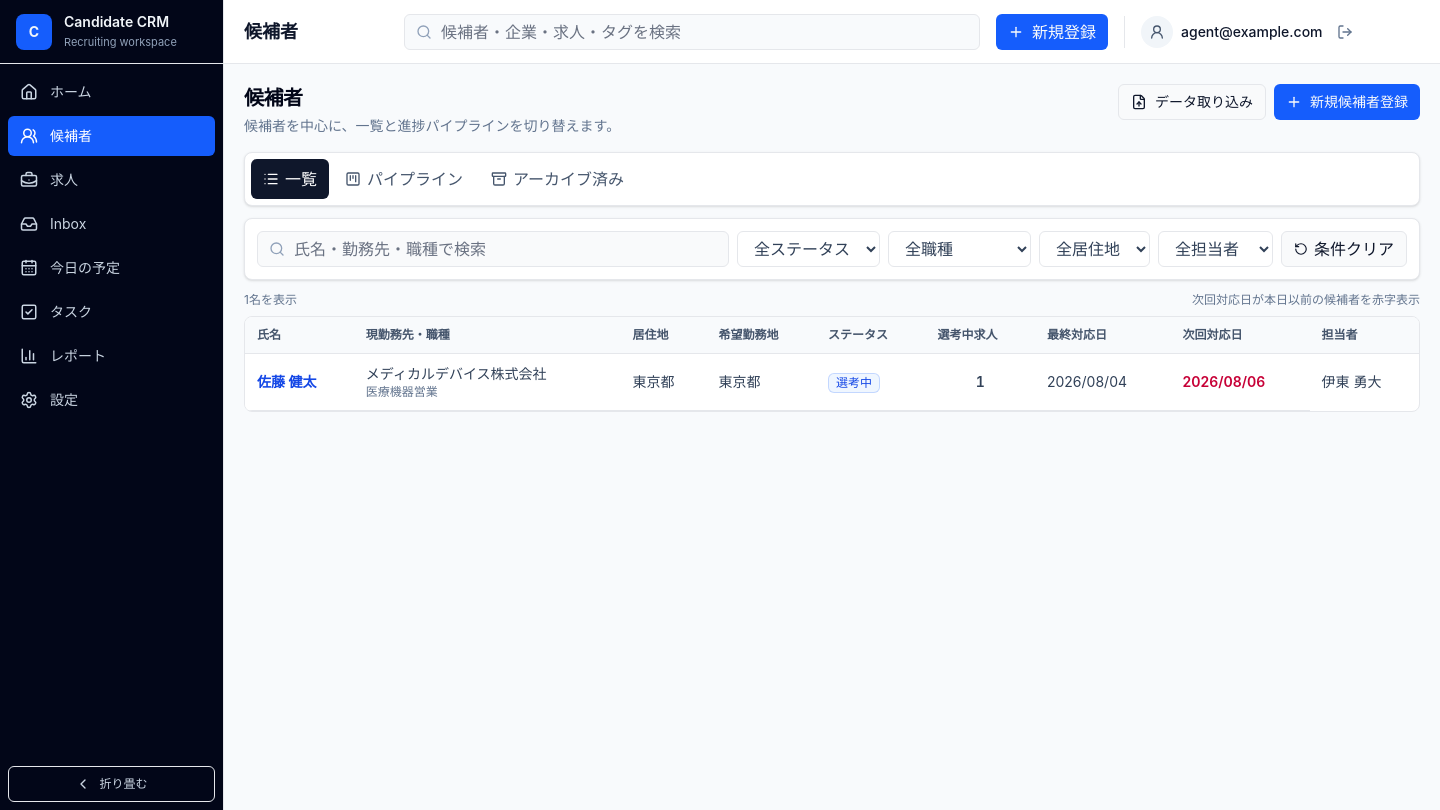
Test: Candidate CRM Phase 2.5 routes › 候補者一覧から候補者詳細へ遷移できる
This screenshot has width=1440, height=810.
Type "佐藤" into the field named "候補者検索".
click(493, 249); type("佐藤")  # box [257,231,729,267]
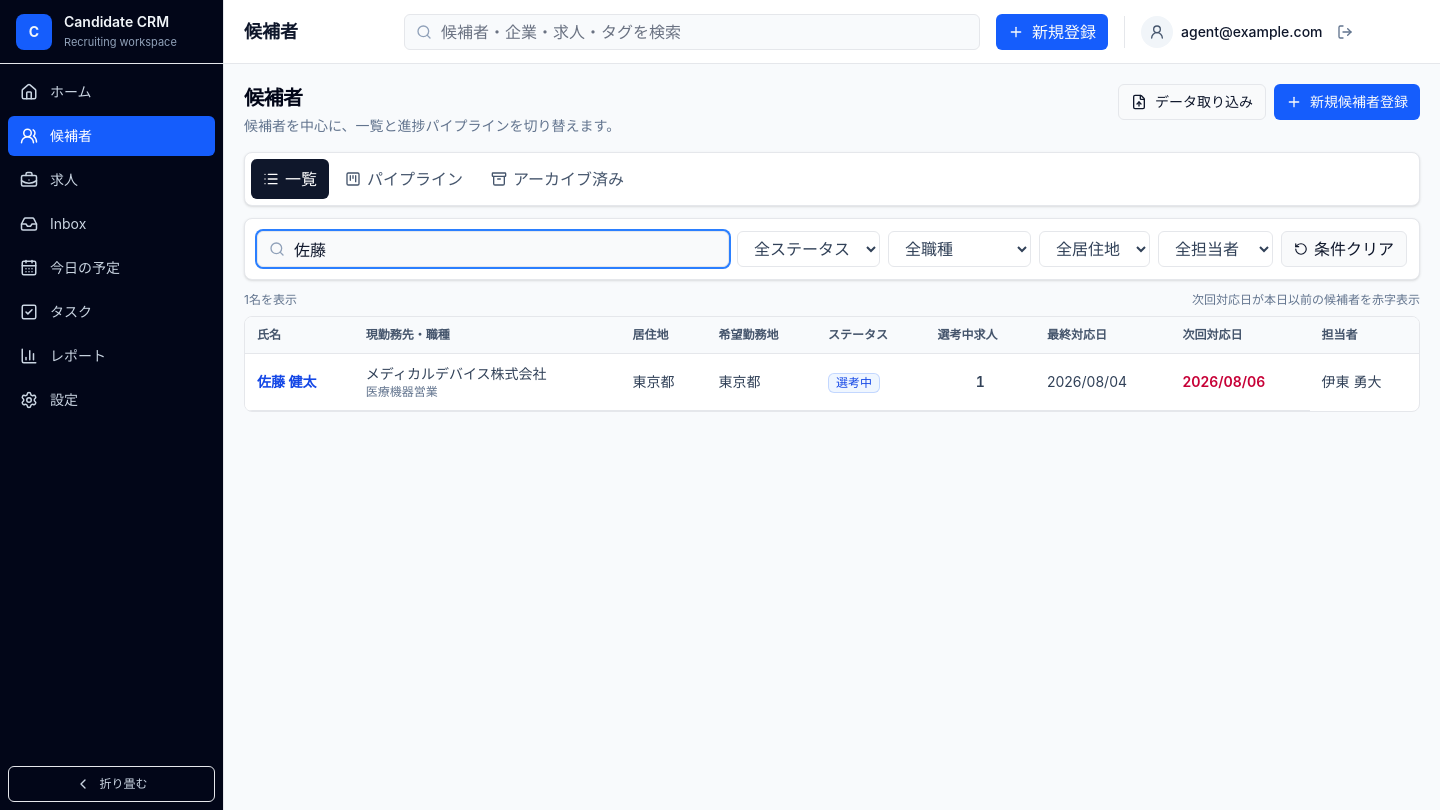
Click the link "佐藤 健太".
click(287, 382)  # box [257,373,316,390]
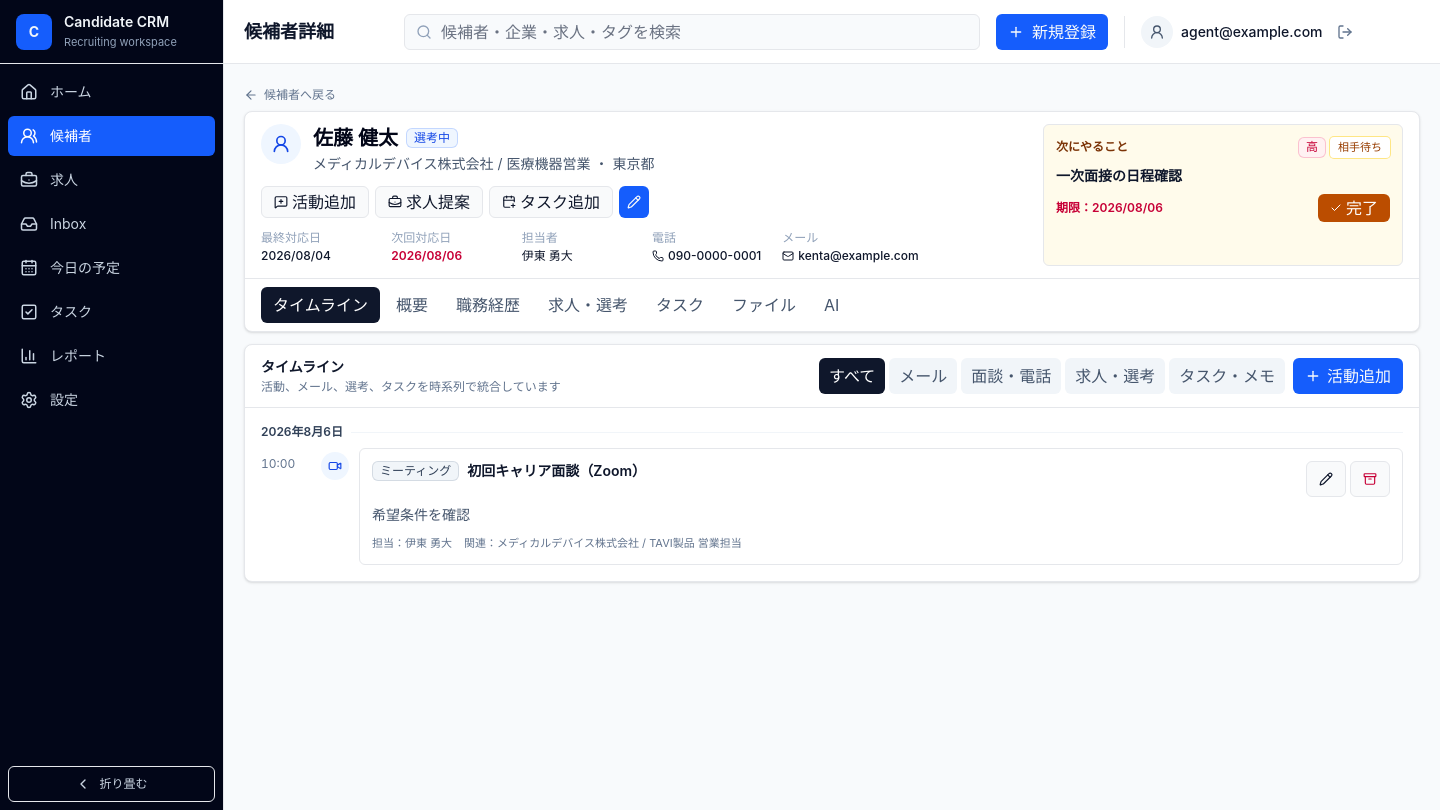
Expected: the heading "佐藤 健太" is shown, [313,124,398,152]
